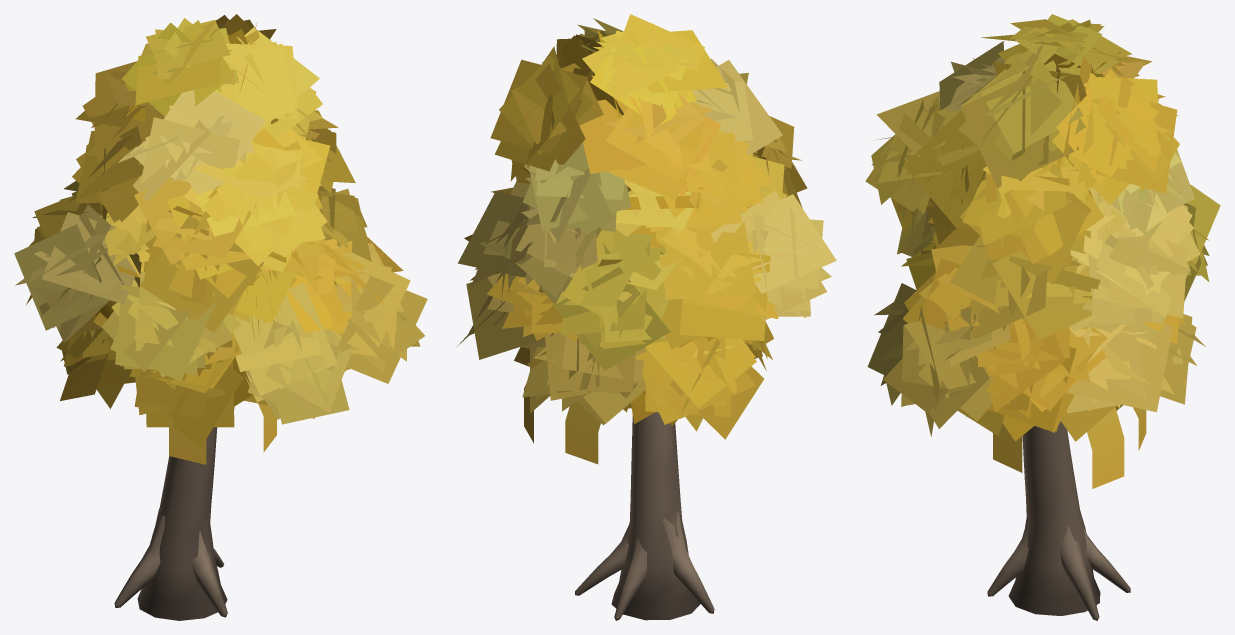
File: tree-village-ginkgo-v2.glb
3 views of the same model, side by side, from view 1: azimuth 30°, elevation 25°; view 2: azimuth 150°, elevation 25°; view 3: azimuth 270°, elevation 25° (orthographic). The views are drawn at different scales.
Parts seen in each view (by area): view 1: cards_ginkgo, bark; view 2: cards_ginkgo, bark; view 3: cards_ginkgo, bark.
Boxes of the visible parts, x1=… form: cards_ginkgo: x1=14, y1=14, x2=427, y2=464; bark: x1=114, y1=427, x2=227, y2=620; cards_ginkgo: x1=457, y1=14, x2=836, y2=464; bark: x1=575, y1=412, x2=714, y2=620; cards_ginkgo: x1=865, y1=14, x2=1220, y2=488; bark: x1=987, y1=421, x2=1130, y2=620.
Bounding box in the file's own units: 4.22 × 6.54 × 3.55.
